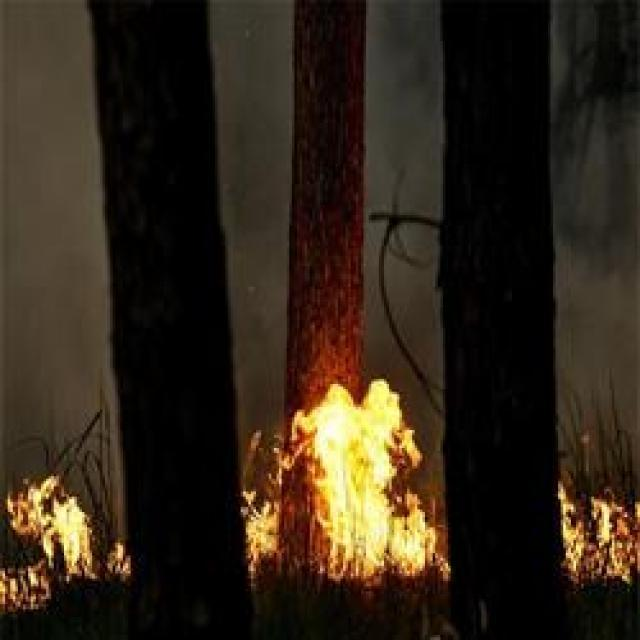Fire: (283, 371, 452, 590), (10, 472, 96, 624), (550, 482, 640, 583), (247, 483, 287, 571)
Smoke: (5, 6, 117, 466), (200, 6, 297, 442), (362, 17, 438, 349), (568, 231, 640, 460)
